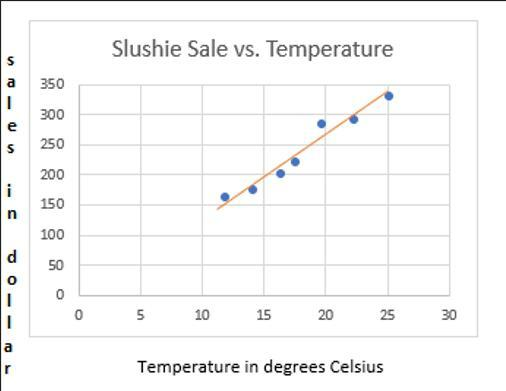point: (218, 190, 232, 205), (345, 112, 361, 125), (316, 117, 329, 131), (245, 184, 260, 196), (288, 156, 302, 168), (382, 90, 396, 102), (274, 168, 287, 179)
